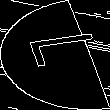L_E: (10, 35, 100, 75)
